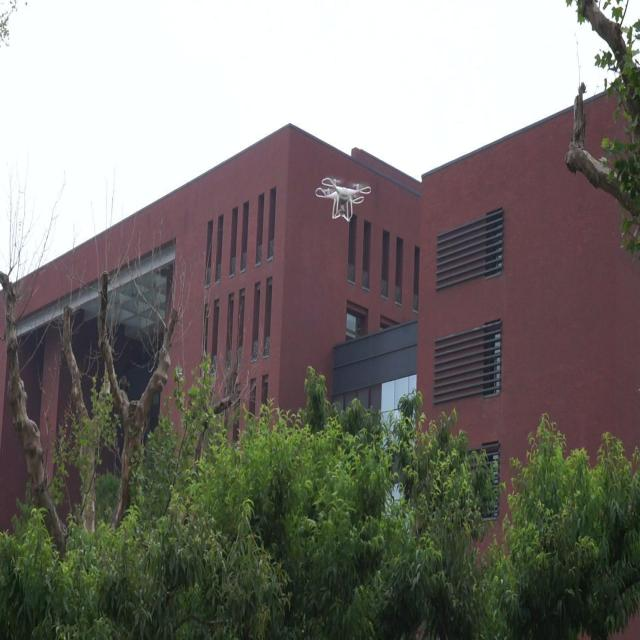UAV: (315, 176, 371, 222)
